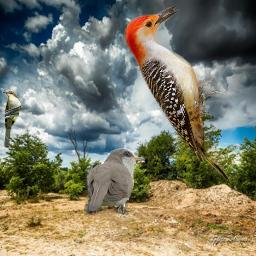Cuckoo: (84, 148, 145, 215), (3, 91, 22, 147)
Woodpecker: (124, 5, 232, 186)
